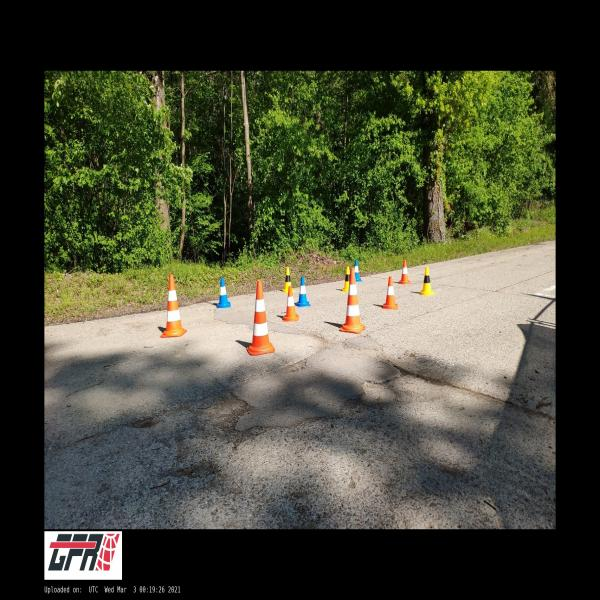blue_cone: (296, 276, 311, 306), (217, 278, 231, 308), (355, 260, 362, 281)
large_orange_cone: (246, 280, 274, 355), (339, 268, 366, 334), (160, 274, 187, 337)
orange_cone: (282, 286, 299, 322), (383, 276, 398, 309), (400, 260, 410, 284)
yellow_cone: (420, 267, 434, 295), (282, 267, 294, 292), (342, 266, 350, 292)
